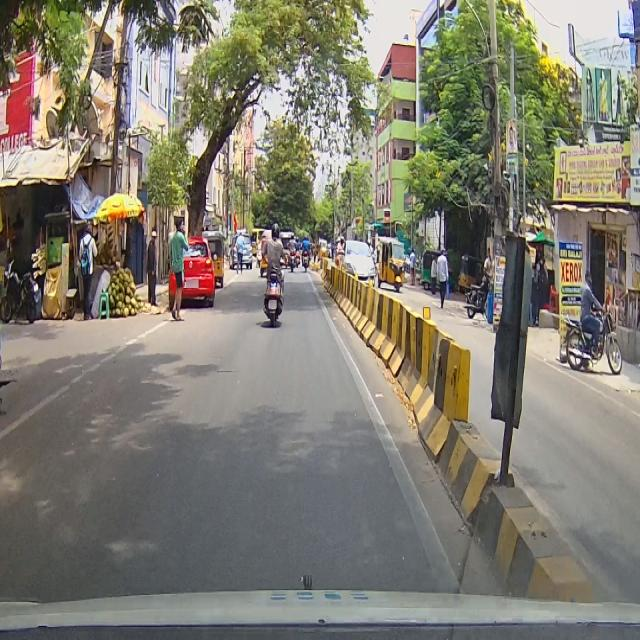motorcycle ahead at: (4, 253, 42, 331), (259, 270, 288, 332)
person ahead at: (165, 207, 188, 329), (73, 222, 99, 315)
